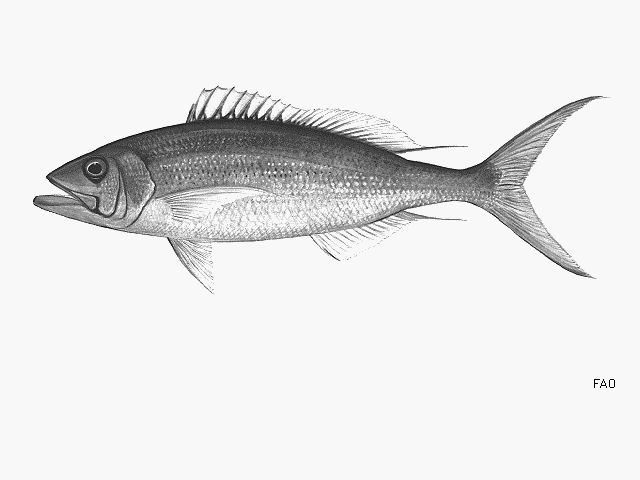fish: (34, 87, 600, 289)
